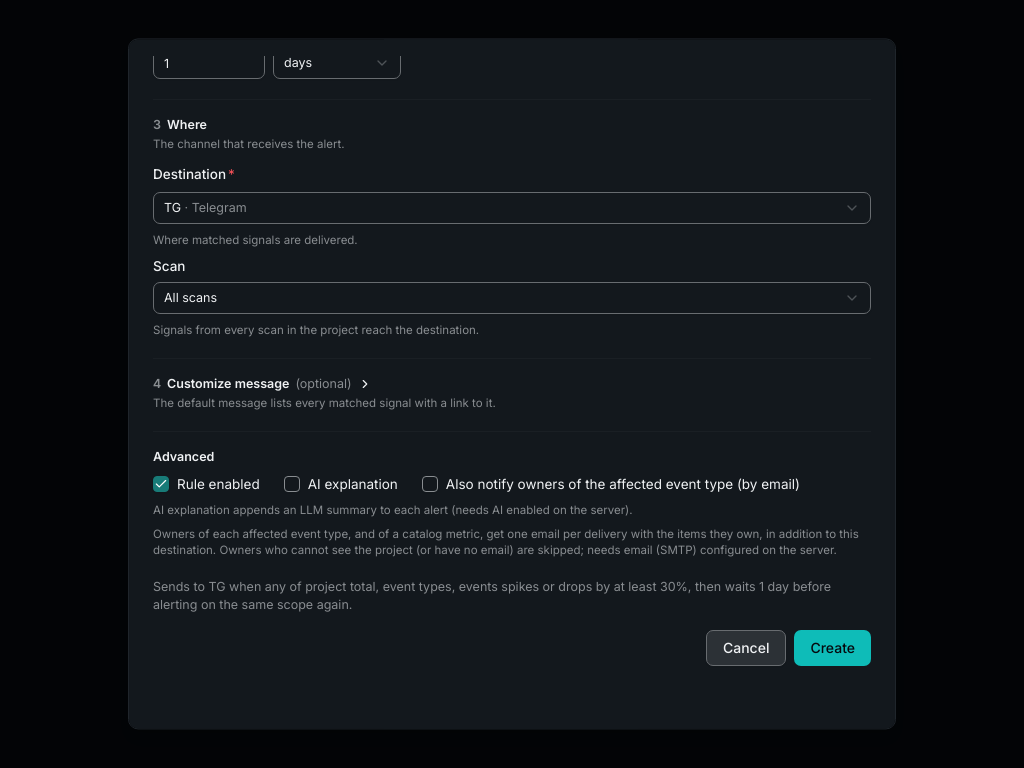
Test: RuleEditorDialog — what / when / where › orders the steps so filters sit with the signals, and hides the templates
(page scrolled)
Expected: the dropdown labelled "Message template" is not shown
Step 1. Click the button "4 Customize message (optional)" → x=262, y=384, box [153, 375, 372, 393]
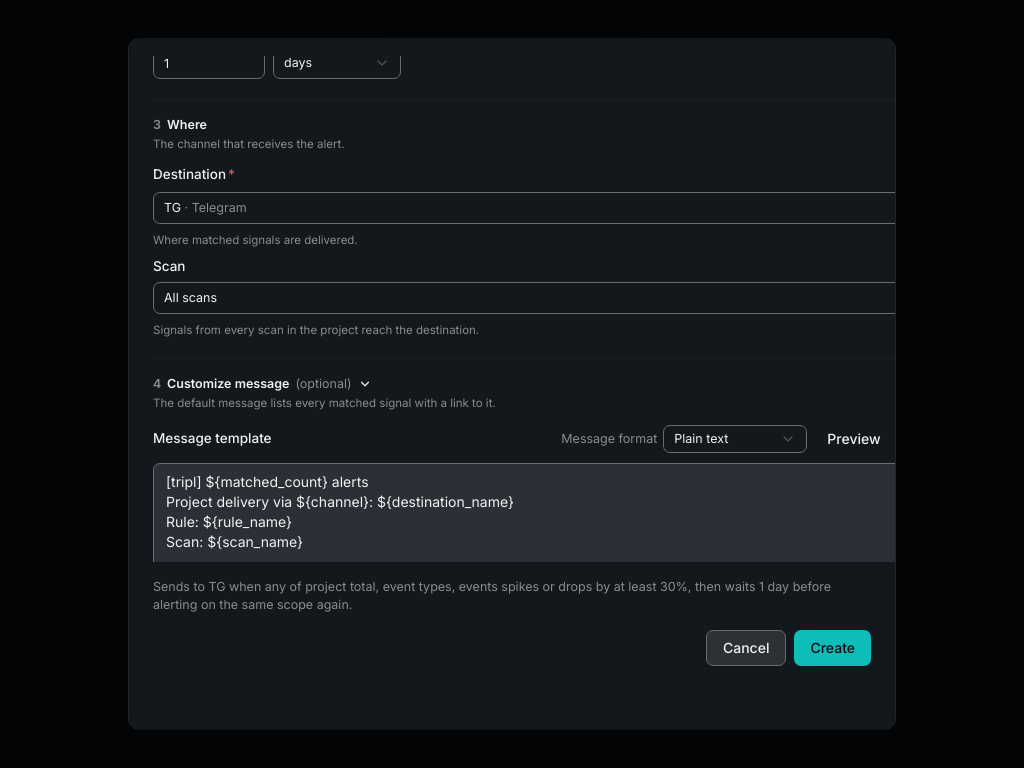
Result: the dropdown labelled "Message template" is shown at [153, 463, 895, 563]
